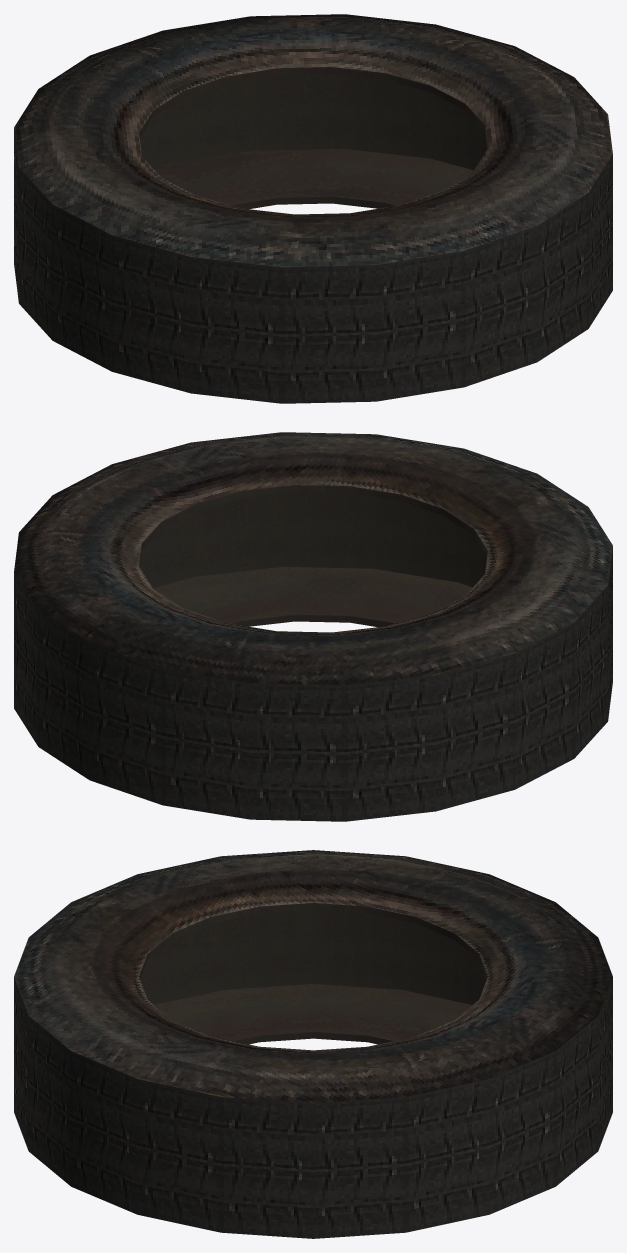
The model's file is tire_2.glb.
3 views of the same model, one above another, from view 1: azimuth 30°, elevation 25°; view 2: azimuth 150°, elevation 25°; view 3: azimuth 270°, elevation 25° (orthographic).
Visible parts, largest first — view 1: tire_2; view 2: tire_2; view 3: tire_2.
Boxes of the visible parts, x1,y1,x2,y2 form: tire_2: (14,14,612,403); tire_2: (14,432,612,821); tire_2: (14,850,612,1238).
Size of the model in its own units: 0.64 by 0.1893 by 0.64.
Materials: 1 (1 with a texture image).
